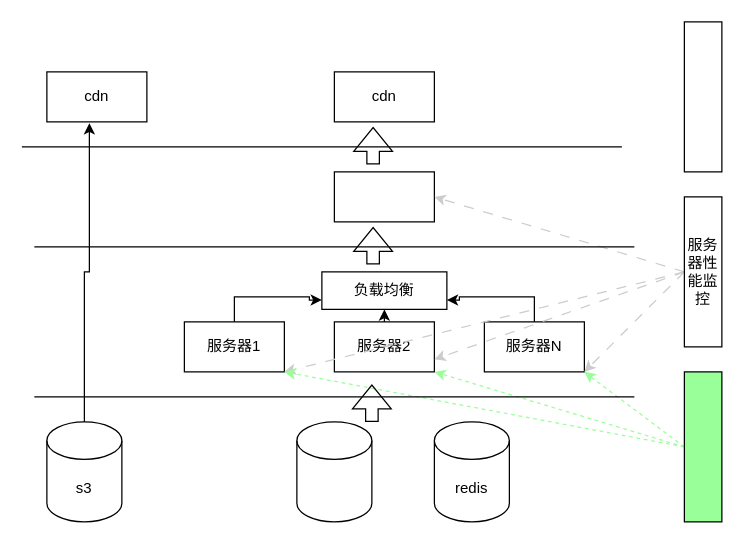
Image size: 744x544. Some labels were removed from this diagram. The shapes that lost their labels are listed below. From the top down, each one's box as (x1, y1, x2, y2) in pixels, then its label:
(683, 21, 722, 172): 前端可用性探测
(333, 171, 434, 222): 前端
(683, 371, 722, 522): 服务接口性能监控
(296, 421, 372, 522): mysql
